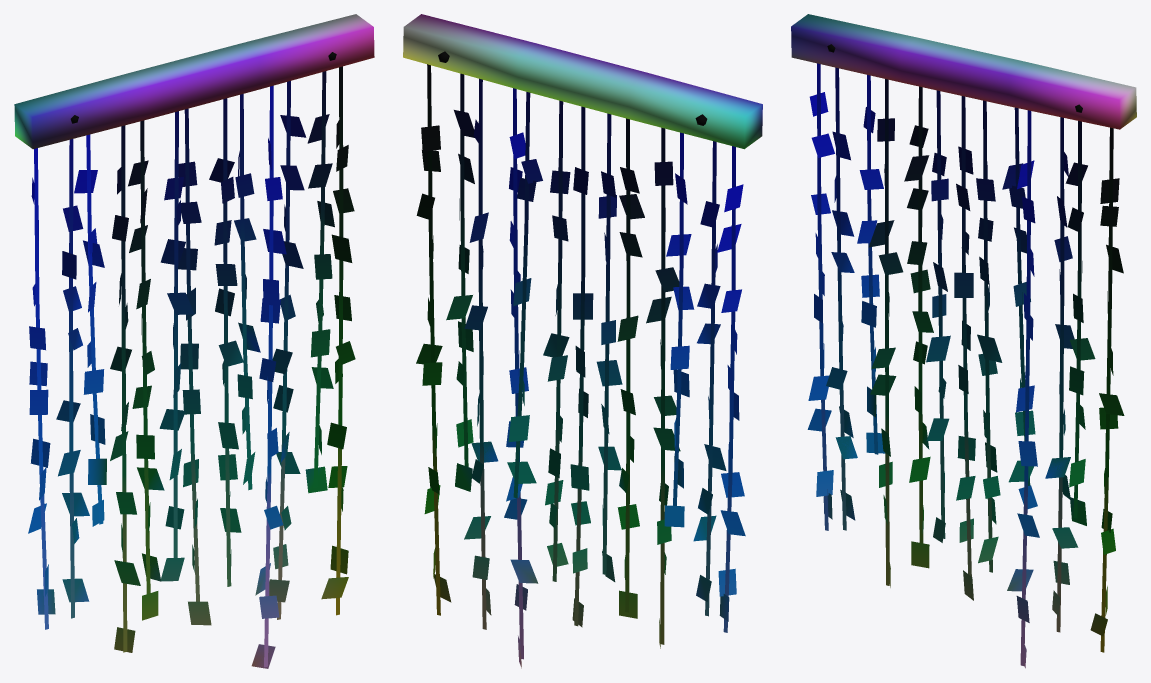
File: SM_Pit_TagCurtain_LOD1.fbx
3 views of the same model, side by side, from view 1: azimuth 30°, elevation 25°; view 2: azimuth 150°, elevation 25°; view 3: azimuth 330°, elevation 25° (orthographic). The views are drawn at different scales.
Visible parts, largest first — view 1: SM_Pit_TagCurtain_LOD1; view 2: SM_Pit_TagCurtain_LOD1; view 3: SM_Pit_TagCurtain_LOD1.
Part boxes in pixels (x1=…): SM_Pit_TagCurtain_LOD1: x1=14, y1=14, x2=374, y2=668; SM_Pit_TagCurtain_LOD1: x1=403, y1=14, x2=762, y2=668; SM_Pit_TagCurtain_LOD1: x1=791, y1=14, x2=1136, y2=668.
Size of the model in its own units: 0.9562 by 1.66 by 0.128.
